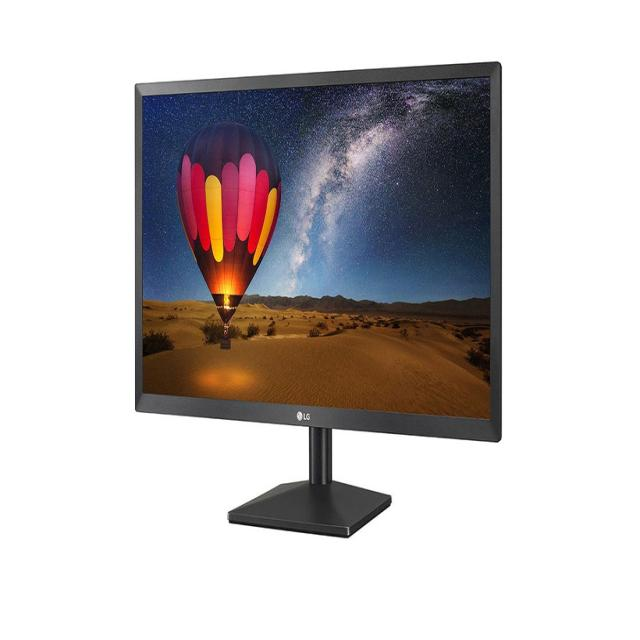monitor: (125, 54, 509, 555)
